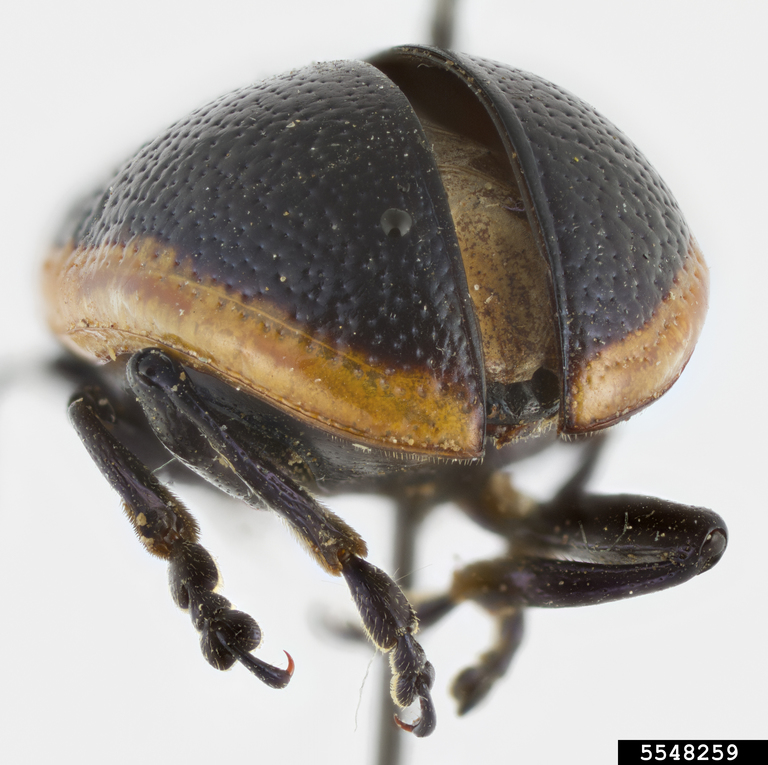Chrysolina_gypsophila: (17, 36, 738, 743)
